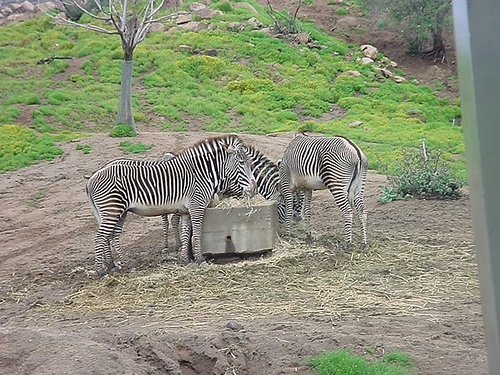zebra: (84, 135, 256, 278), (279, 128, 369, 246)
